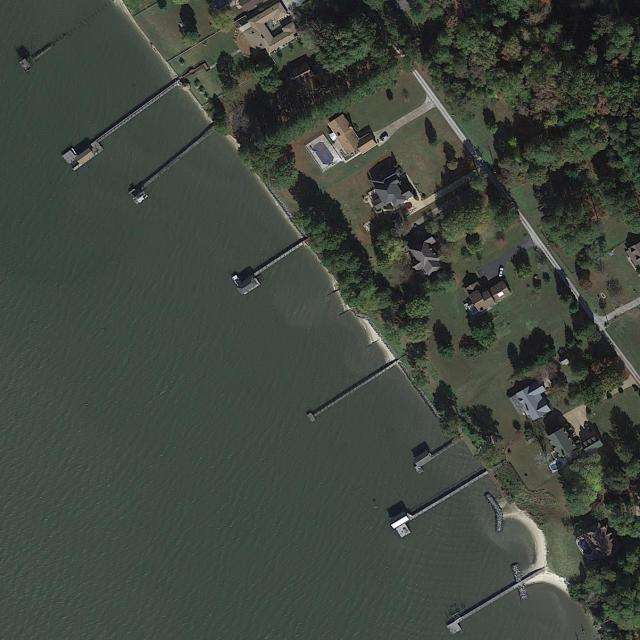small-vehicle: (584, 422, 593, 433), (380, 134, 390, 143), (403, 203, 413, 211), (498, 267, 504, 278)
